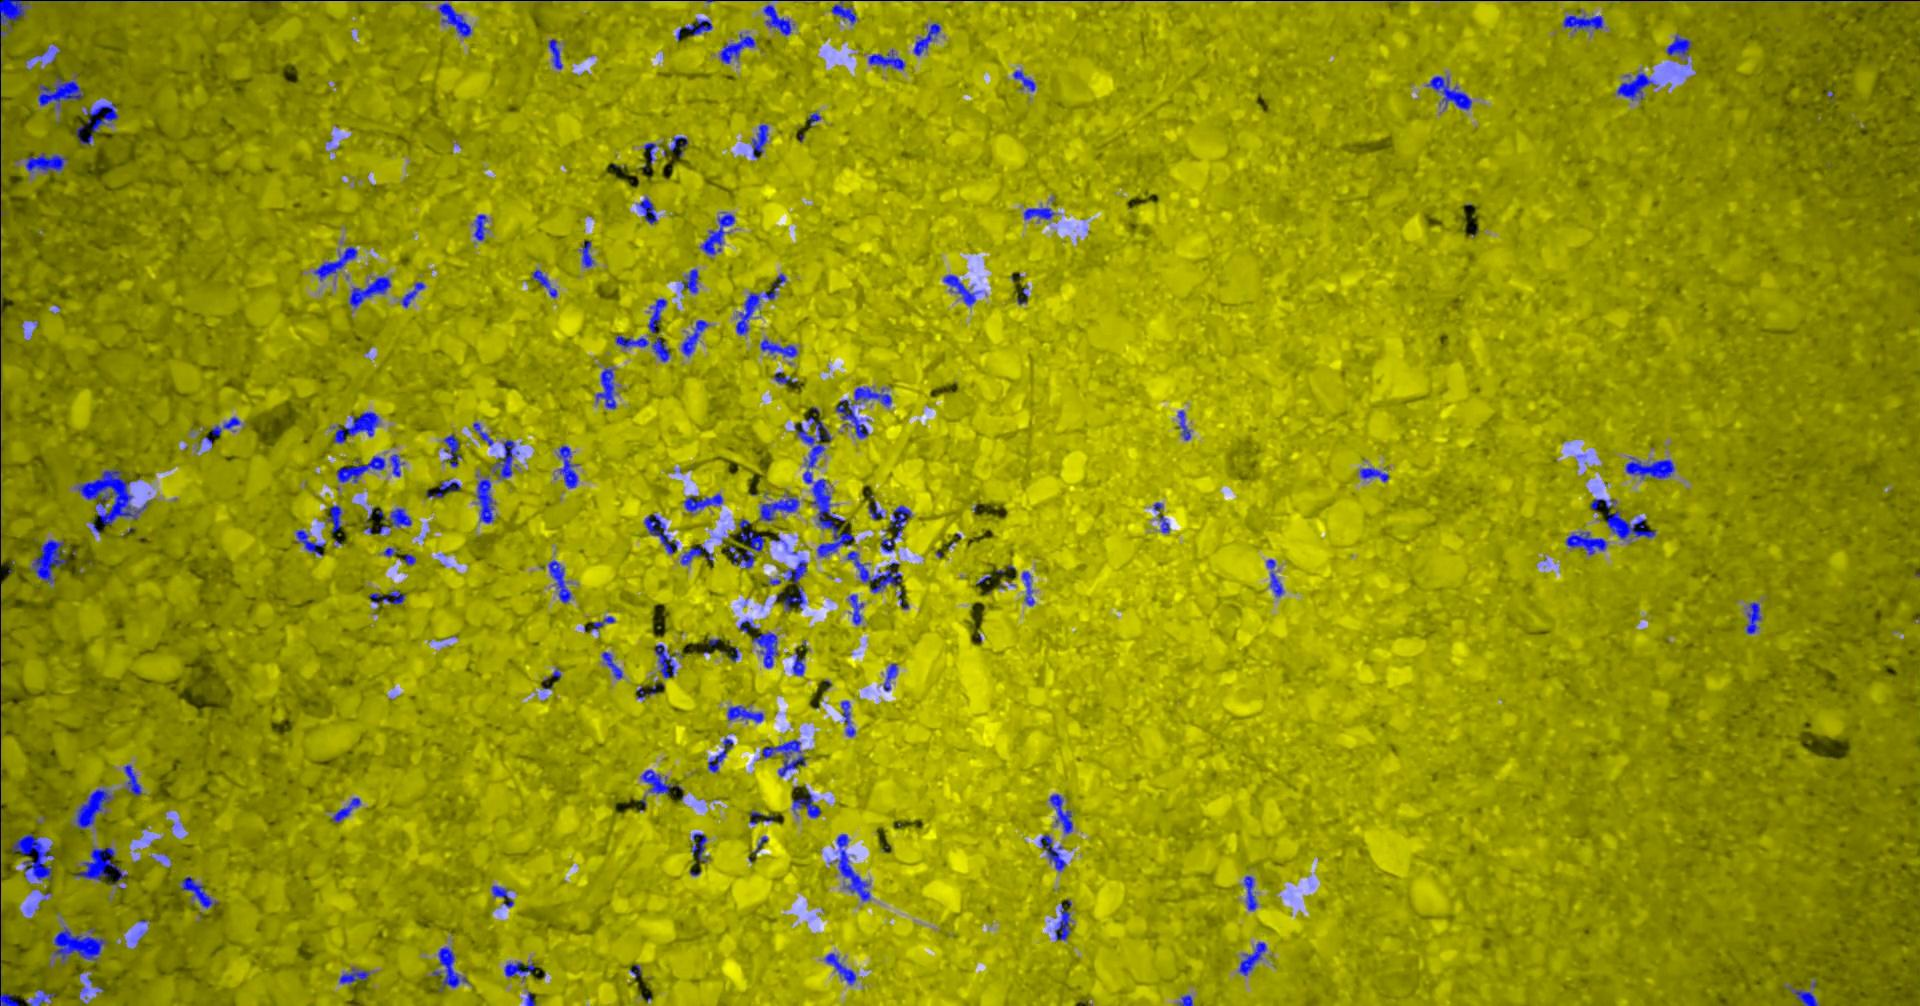ant: (735, 273, 785, 334), (1589, 498, 1655, 539), (846, 550, 902, 592), (834, 833, 869, 901), (11, 833, 53, 882), (724, 518, 764, 568), (72, 846, 126, 882), (53, 926, 107, 962), (75, 102, 117, 144), (761, 739, 805, 776), (30, 539, 66, 583), (75, 788, 112, 829), (698, 211, 734, 254), (1426, 75, 1470, 109), (37, 76, 83, 109), (331, 412, 378, 443), (312, 246, 357, 279), (615, 334, 669, 361), (880, 506, 910, 553), (348, 276, 390, 307), (437, 946, 467, 989), (643, 514, 677, 553), (836, 399, 869, 438), (0, 0, 28, 44), (337, 456, 385, 481), (180, 876, 218, 908), (438, 0, 471, 36), (717, 33, 754, 64), (641, 768, 683, 795), (1617, 72, 1655, 100), (491, 439, 519, 478), (943, 274, 977, 306), (681, 319, 709, 356), (547, 560, 571, 602), (1624, 457, 1674, 478), (824, 951, 855, 984), (750, 631, 778, 667), (1039, 835, 1065, 871), (1048, 793, 1072, 833), (762, 4, 792, 36), (1564, 531, 1606, 554), (1238, 941, 1266, 976), (759, 495, 797, 520), (913, 22, 940, 55), (557, 445, 578, 486), (378, 508, 411, 533), (707, 738, 731, 772), (295, 528, 325, 555), (25, 152, 67, 171), (676, 18, 712, 39), (596, 367, 615, 408), (853, 386, 891, 406), (476, 478, 493, 523), (331, 796, 361, 822), (759, 338, 797, 357), (532, 269, 557, 297), (792, 791, 820, 817), (683, 493, 723, 511), (654, 643, 674, 677), (869, 50, 904, 69), (1054, 904, 1072, 940), (1562, 15, 1603, 30), (401, 281, 424, 307), (648, 298, 665, 333), (1266, 559, 1283, 596), (681, 545, 712, 564), (728, 705, 763, 721), (830, 0, 855, 24), (781, 559, 806, 582), (601, 652, 622, 678), (425, 480, 460, 497), (123, 763, 141, 795), (1788, 986, 1817, 1005), (750, 124, 767, 158), (443, 433, 460, 466), (370, 589, 405, 605), (637, 196, 657, 224), (504, 962, 536, 978), (783, 586, 805, 610), (1745, 602, 1761, 633), (211, 417, 239, 434), (841, 700, 855, 735), (1012, 70, 1035, 91), (1666, 36, 1690, 56), (691, 832, 707, 861), (25, 988, 55, 1005), (491, 885, 513, 907), (472, 422, 493, 445), (584, 616, 615, 631), (681, 268, 698, 293), (339, 968, 368, 983), (1243, 875, 1256, 909), (549, 38, 563, 69), (1023, 207, 1054, 221), (1021, 572, 1034, 605), (1359, 467, 1388, 481), (850, 594, 863, 624), (472, 213, 488, 240), (326, 506, 342, 532), (669, 136, 687, 158), (579, 240, 593, 267), (883, 663, 897, 690), (1177, 410, 1190, 439), (790, 652, 804, 674), (773, 371, 796, 384), (390, 453, 403, 476), (739, 619, 759, 633), (0, 989, 18, 1005), (643, 142, 655, 163), (869, 502, 883, 520), (1159, 514, 1170, 532), (1178, 995, 1192, 1005)
